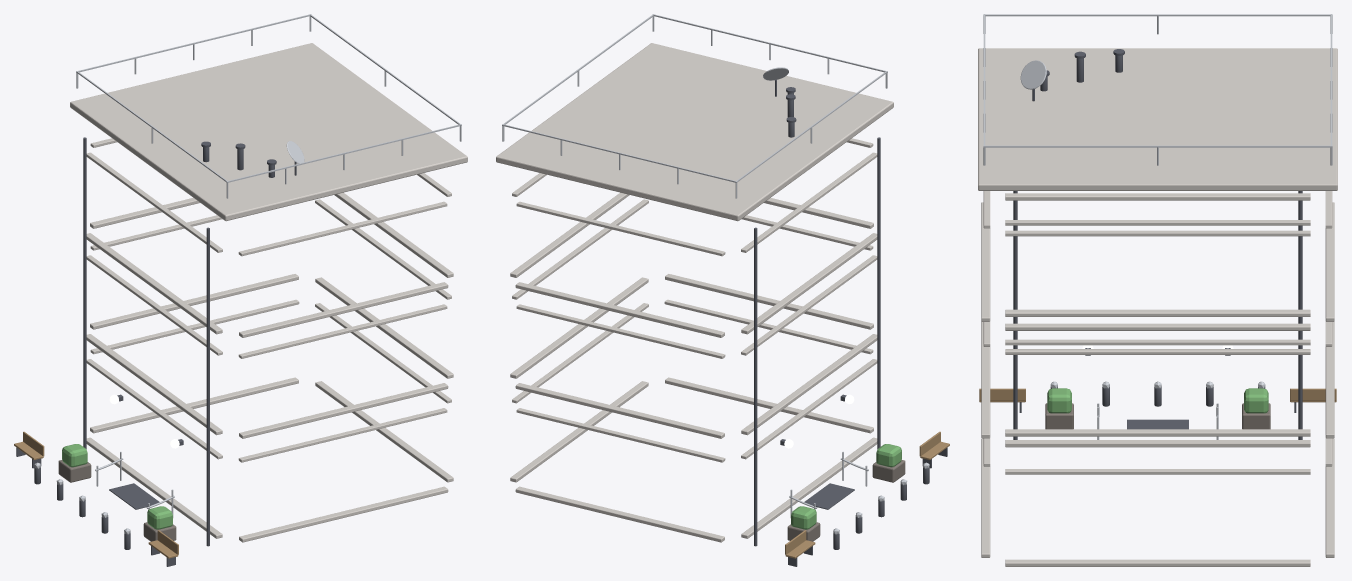
Rendered from azonix_detail.glb.
3 renders of one model, left to right at view 1: azimuth 30°, elevation 25°; view 2: azimuth 150°, elevation 25°; view 3: azimuth 270°, elevation 25°, orthographic. The views are drawn at different scales.
Parts seen in each view (by area): view 1: az_cornice, az_sill_y_0_0, az_sill_y_2_0, az_sill_y_1_0, az_sill_y_0_1, az_sill_y_1_1, az_sill_x_2_0, az_sill_x_1_0, az_pipe_-1, az_sill_x_0_0, az_lintel_y_0_0, az_lintel_y_1_0 (+16 smaller); view 2: az_cornice, az_sill_y_0_1, az_sill_y_2_1, az_sill_y_1_1, az_sill_y_0_0, az_sill_y_1_0, az_sill_x_2_0, az_sill_x_1_0, az_pipe_1, az_sill_x_0_0, az_lintel_y_0_1, az_lintel_y_1_1 (+16 smaller); view 3: az_cornice, az_sill_x_0_0, az_sill_x_0_1, az_sill_x_2_0, az_sill_x_2_1, az_sill_x_1_0, az_sill_x_1_1, az_lintel_x_0_0, az_lintel_x_2_1, az_lintel_x_0_1, az_lintel_x_1_0, az_lintel_x_1_1 (+18 smaller).
Boxes of the visible parts, left/top/right/bottom form: az_cornice: left=70, top=43, right=467, bottom=221; az_sill_y_0_0: left=239, top=486, right=448, bottom=542; az_sill_y_2_0: left=239, top=282, right=448, bottom=337; az_sill_y_1_0: left=239, top=383, right=448, bottom=438; az_sill_y_0_1: left=90, top=377, right=298, bottom=433; az_sill_y_1_1: left=90, top=274, right=298, bottom=329; az_sill_x_2_0: left=86, top=233, right=222, bottom=334; az_sill_x_1_0: left=86, top=334, right=222, bottom=435; az_pipe_-1: left=206, top=227, right=209, bottom=546; az_sill_x_0_0: left=86, top=437, right=222, bottom=538; az_lintel_y_0_0: left=238, top=408, right=447, bottom=462; az_lintel_y_1_0: left=238, top=304, right=447, bottom=358; az_cornice: left=496, top=43, right=893, bottom=221; az_sill_y_0_1: left=515, top=486, right=724, bottom=542; az_sill_y_2_1: left=515, top=282, right=724, bottom=337; az_sill_y_1_1: left=515, top=383, right=724, bottom=438; az_sill_y_0_0: left=665, top=377, right=873, bottom=433; az_sill_y_1_0: left=665, top=274, right=873, bottom=329; az_sill_x_2_0: left=741, top=233, right=877, bottom=334; az_sill_x_1_0: left=741, top=334, right=877, bottom=435; az_pipe_1: left=754, top=227, right=757, bottom=546; az_sill_x_0_0: left=741, top=437, right=877, bottom=538; az_lintel_y_0_1: left=516, top=408, right=725, bottom=462; az_lintel_y_1_1: left=516, top=304, right=725, bottom=358; az_cornice: left=978, top=48, right=1337, bottom=190; az_sill_x_0_0: left=1005, top=429, right=1310, bottom=436; az_sill_x_0_1: left=1005, top=559, right=1310, bottom=566; az_sill_x_2_0: left=1005, top=193, right=1310, bottom=200; az_sill_x_2_1: left=1005, top=323, right=1310, bottom=330; az_sill_x_1_0: left=1005, top=309, right=1310, bottom=316; az_sill_x_1_1: left=1005, top=440, right=1310, bottom=447; az_lintel_x_0_0: left=1005, top=339, right=1310, bottom=345; az_lintel_x_2_1: left=1005, top=230, right=1310, bottom=236; az_lintel_x_0_1: left=1005, top=469, right=1310, bottom=474; az_lintel_x_1_0: left=1005, top=220, right=1310, bottom=225; az_lintel_x_1_1: left=1005, top=349, right=1310, bottom=354.
Size of the model in its own units: 16 by 18.38 by 13.9.
